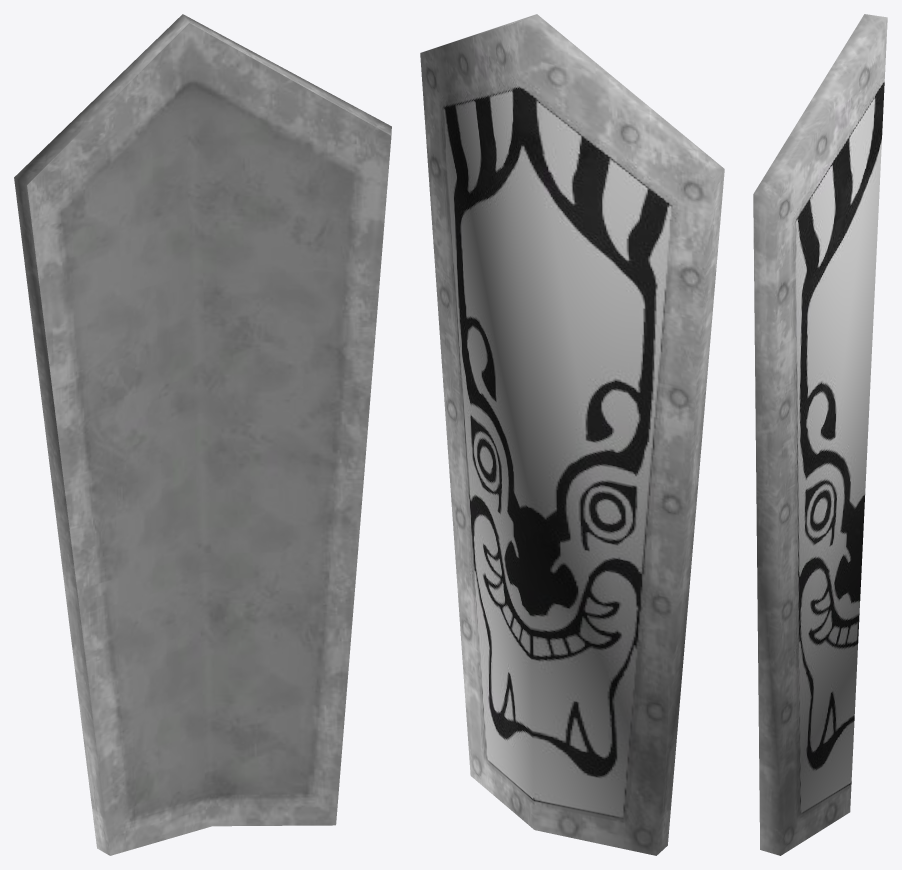
File: shield-coppershields.glb
The picture shows the model from 3 angles, left to right: view 1: azimuth 30°, elevation 25°; view 2: azimuth 150°, elevation 25°; view 3: azimuth 270°, elevation 25°; orthographic projection. The views are drawn at different scales.
Size of the model in its own units: 0.5732 by 1.32 by 0.2019.
1 material, 1 textured.
